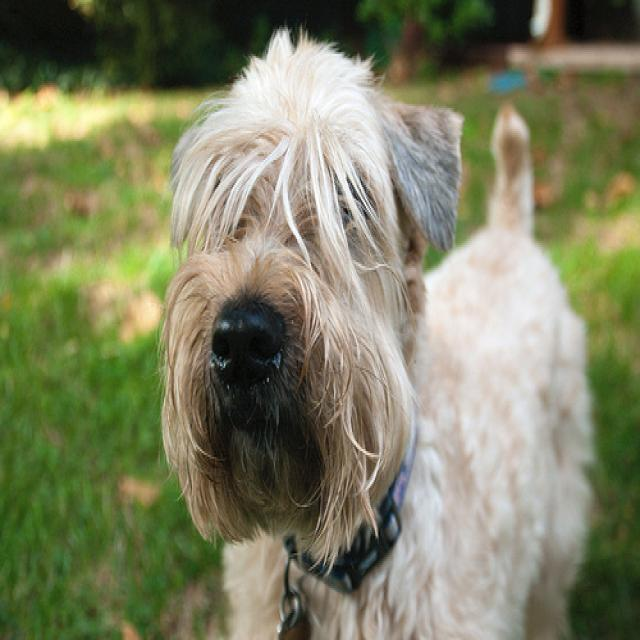dog-wheaten_terrier: (148, 13, 600, 636)
